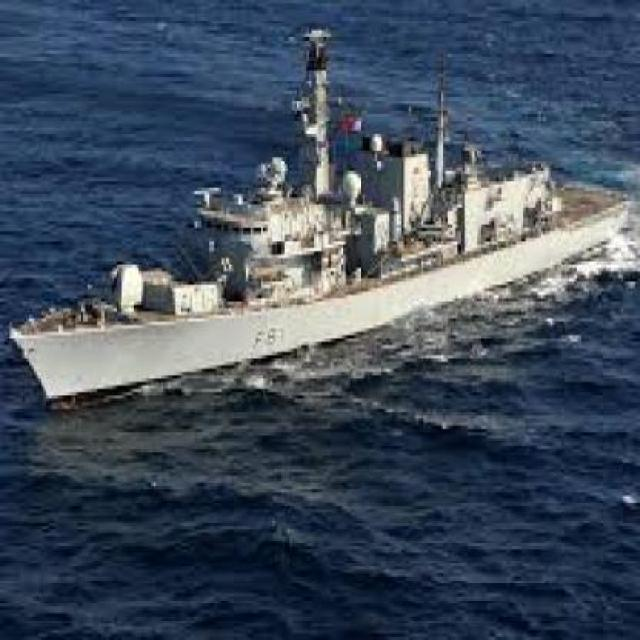warship2: (11, 10, 634, 430)
